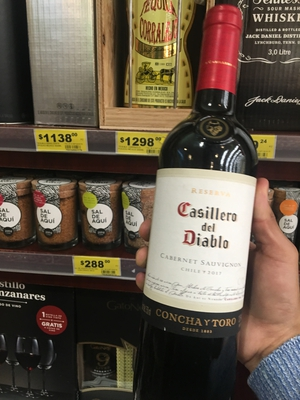casillero del diablo cabernet sauvignon: (134, 13, 270, 387)
